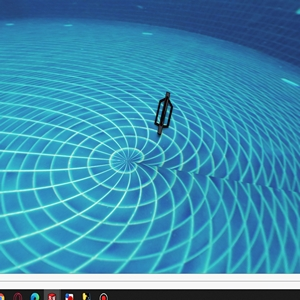submarine: (155, 91, 172, 134)
